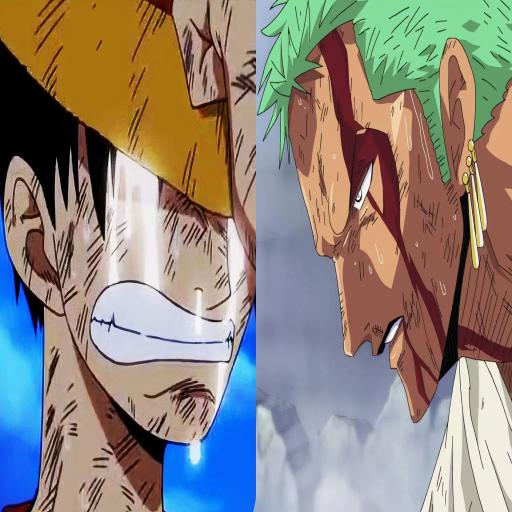Luffy: (0, 0, 253, 512)
Zoro: (258, 0, 512, 512)
